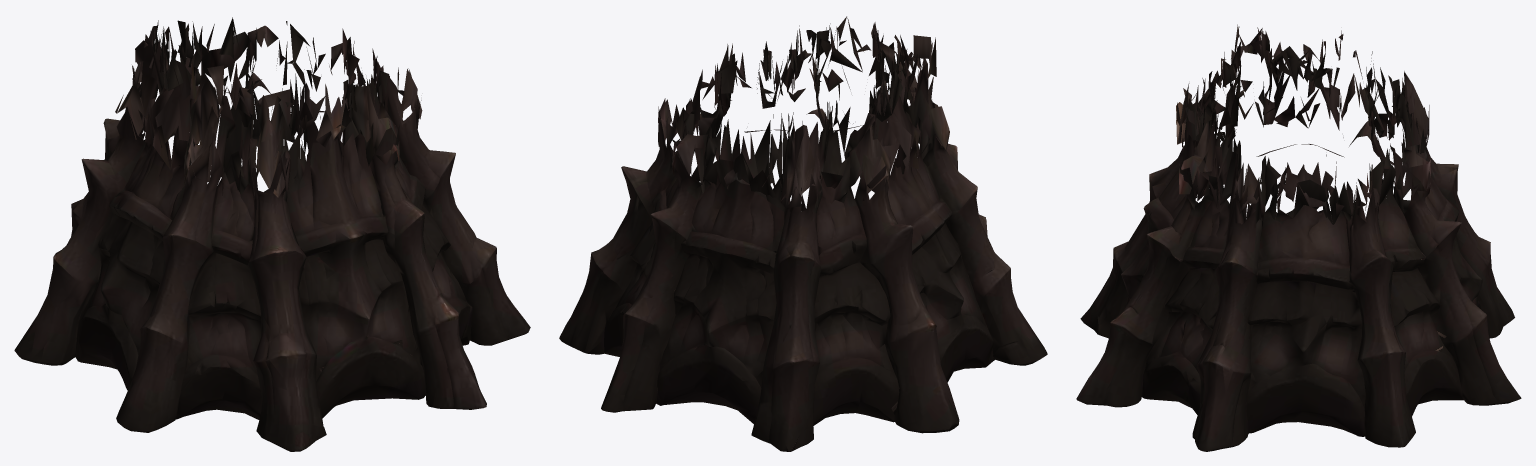
Rendered from SM_HiveSpire_Destroyed.glb.
The picture shows the model from 3 angles, left to right: view 1: azimuth 30°, elevation 25°; view 2: azimuth 150°, elevation 25°; view 3: azimuth 270°, elevation 25°; orthographic projection. The views are drawn at different scales.
Visible parts, largest first — view 1: SM_HiveSpire_Destroyed; view 2: SM_HiveSpire_Destroyed; view 3: SM_HiveSpire_Destroyed.
Part boxes in pixels (x1,y1,x2,y2): SM_HiveSpire_Destroyed: (14,17,530,451); SM_HiveSpire_Destroyed: (559,16,1047,451); SM_HiveSpire_Destroyed: (1076,24,1521,451).
Size of the model in its own units: 1.35 by 1.03 by 1.38.
Materials: 1 (1 with a texture image).
